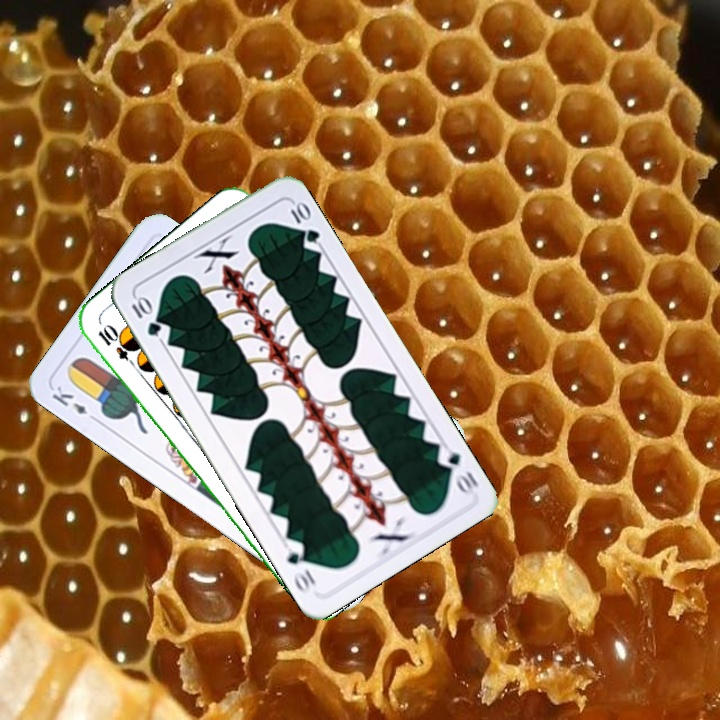E10: (93, 321, 142, 371)
EK: (47, 381, 101, 425)
G10: (432, 446, 481, 497), (127, 291, 164, 339)
